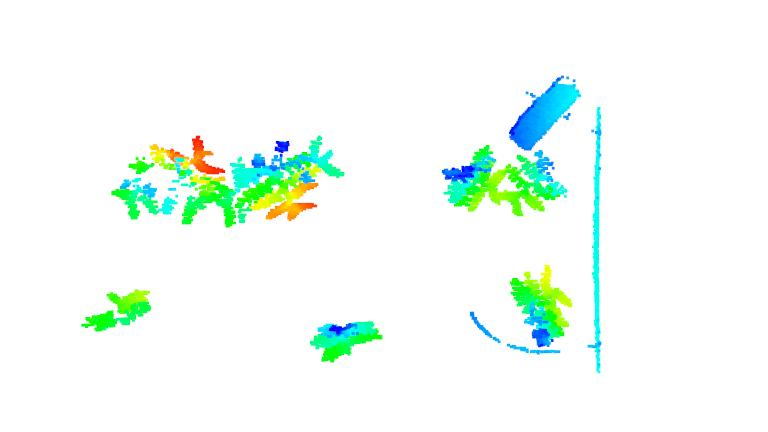chickpea: (230, 131, 344, 230), (112, 133, 230, 228), (508, 263, 578, 347), (495, 149, 570, 222), (439, 141, 500, 217), (77, 287, 157, 338), (307, 319, 382, 367)
